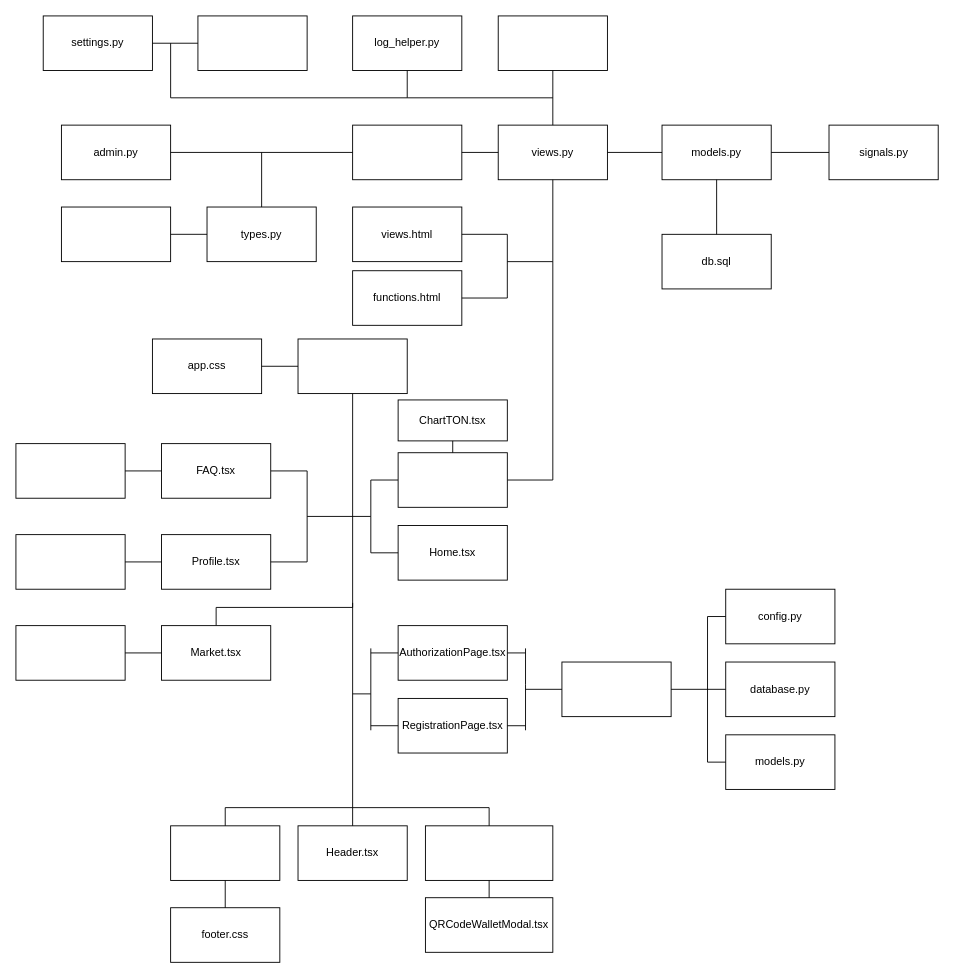
The diagram is 955 pixels wide and 978 high, and some of its shapes have lost their labels. Each missing label, with the box of its shape:
App.tsx: (297, 338, 407, 394)
apps.py: (197, 15, 307, 71)
Chart.tsx: (397, 452, 507, 507)
ConnectWalletModal.tsx: (425, 825, 553, 880)
faq.css: (15, 443, 125, 498)
Footer.tsx: (170, 825, 280, 880)
main.py: (561, 661, 671, 717)
market.css: (15, 625, 125, 680)
profile.css: (15, 534, 125, 589)
resources.py: (497, 15, 607, 71)
schema.py: (61, 206, 171, 262)
urls.py: (352, 124, 462, 180)
